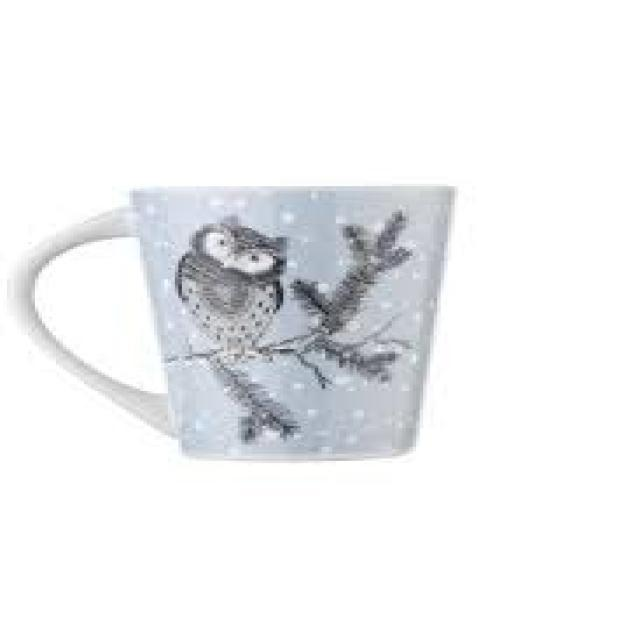taza: (0, 184, 459, 462)
